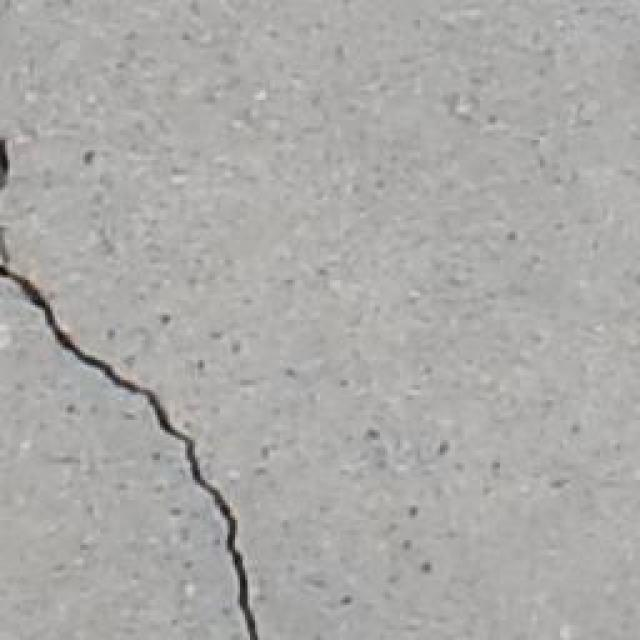concrete-crack: (0, 138, 260, 640)
